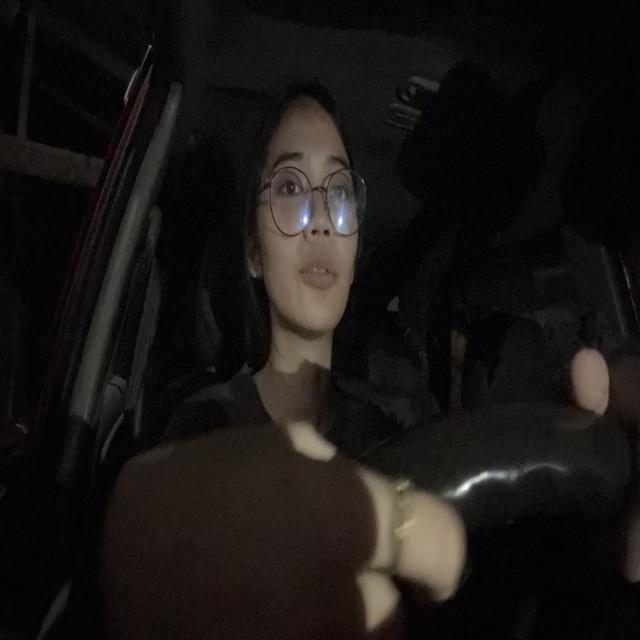open: (268, 145, 313, 212), (324, 151, 354, 209)
